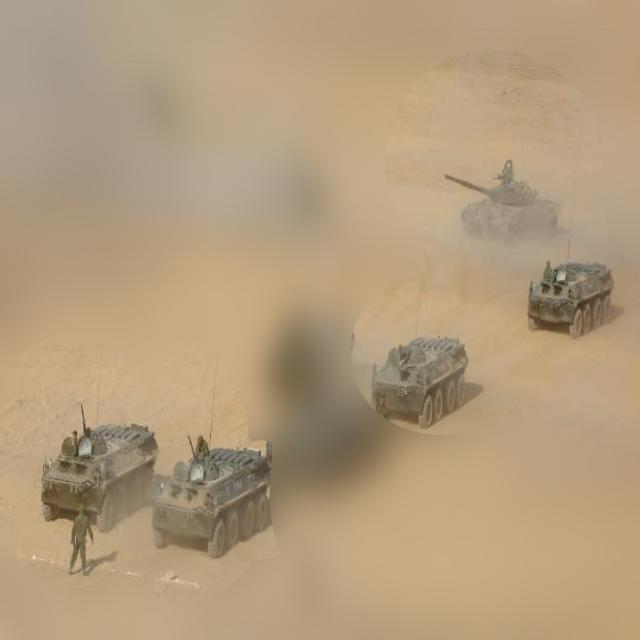tank: (151, 437, 274, 562), (40, 404, 158, 530), (366, 330, 471, 430), (445, 157, 563, 244), (527, 258, 616, 339)
